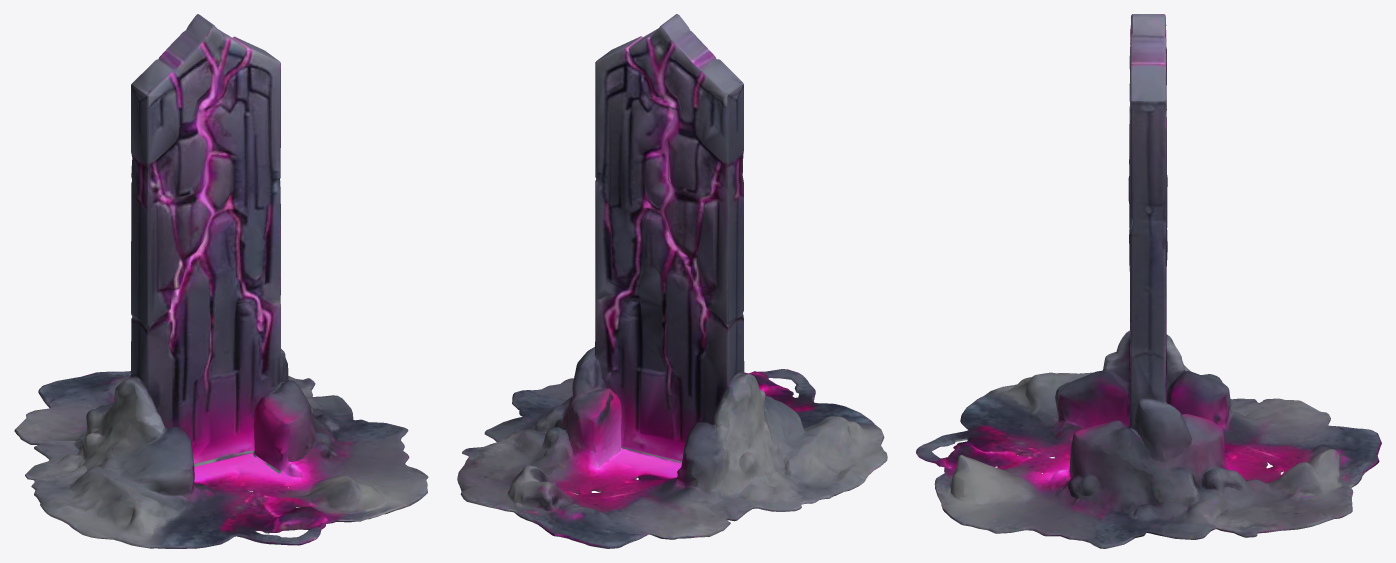
The model's file is weathered-monolith-pillar-generated-2026-05-17T19-13-21-731Z.low.glb.
The picture shows the model from 3 angles, left to right: view 1: azimuth 30°, elevation 25°; view 2: azimuth 150°, elevation 25°; view 3: azimuth 270°, elevation 25°; orthographic projection. The views are drawn at different scales.
Visible parts, largest first — view 1: temp_mesh.ply; view 2: temp_mesh.ply; view 3: temp_mesh.ply.
Part boxes in pixels (x1=…): temp_mesh.ply: x1=14, y1=14, x2=428, y2=548; temp_mesh.ply: x1=457, y1=14, x2=887, y2=548; temp_mesh.ply: x1=916, y1=14, x2=1381, y2=548.
Bounding box in the file's own units: 1.67 × 1.96 × 1.86.
1 material, 1 textured.
